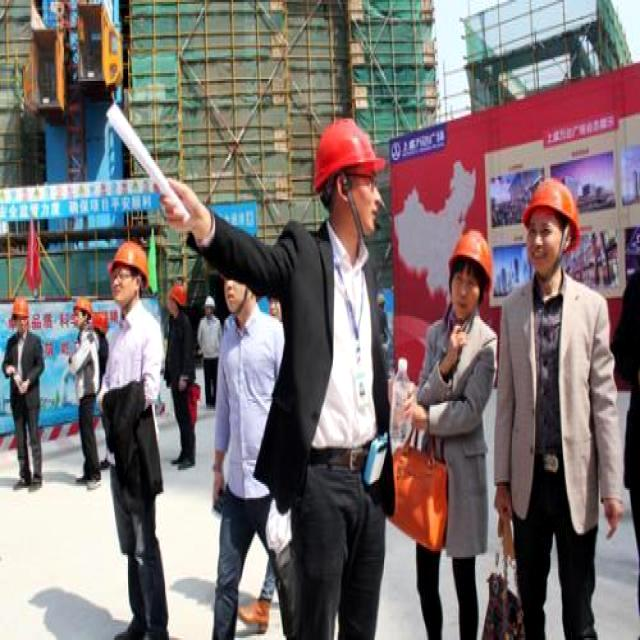hard_hat: (315, 119, 385, 192), (521, 178, 580, 251), (451, 231, 492, 298), (108, 239, 148, 286), (168, 277, 187, 304), (12, 298, 28, 318), (74, 296, 92, 312), (204, 294, 215, 306)
person: (495, 178, 622, 638), (293, 119, 389, 638), (410, 229, 495, 638), (212, 279, 293, 638), (100, 241, 168, 638), (1, 298, 44, 486), (69, 298, 106, 488), (165, 279, 196, 468), (198, 296, 220, 405), (417, 543, 440, 638)
